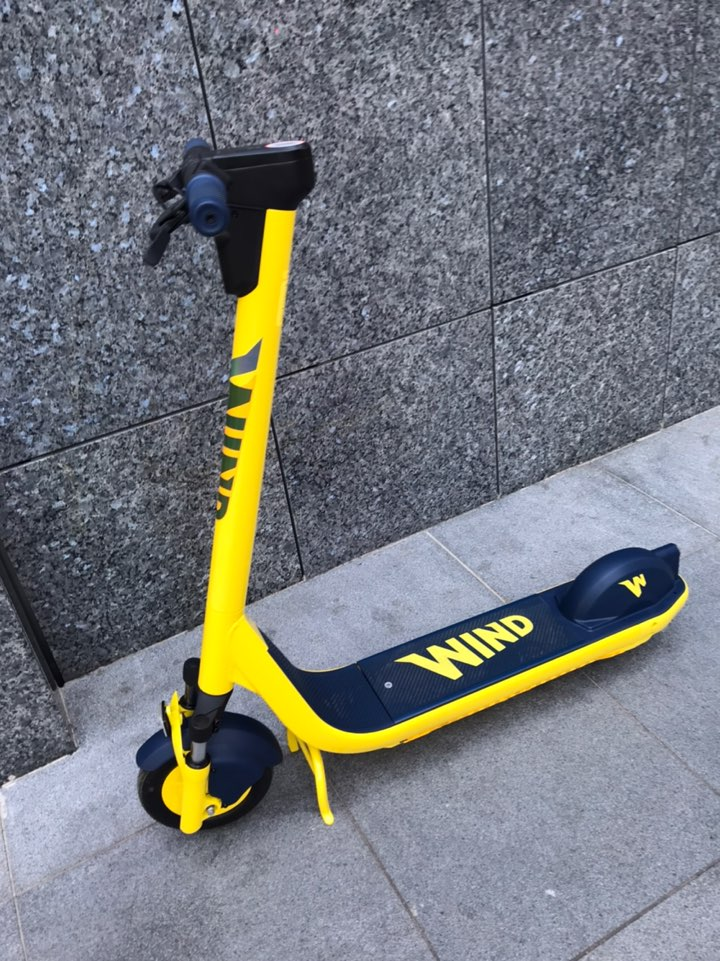kick_board: (132, 136, 684, 834)
kick_handler: (148, 139, 309, 256)
kick_neck: (204, 262, 284, 669)
kick_wheel: (131, 717, 276, 833), (593, 549, 694, 653)
